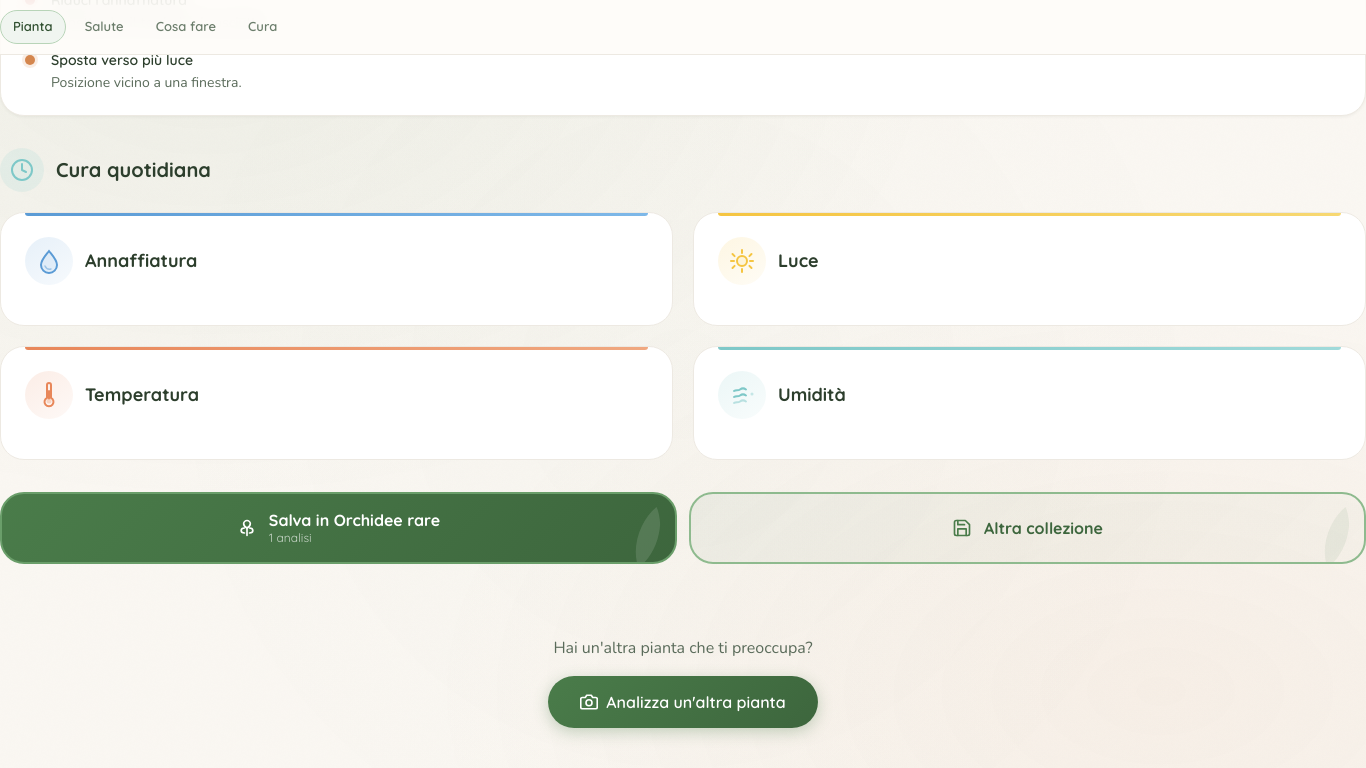
Scenario: Flusso completo: selettore collezione con ricerca e salvataggio › il badge 'Suggerita' resta visibile su Orchidee rare anche filtrando per nome scientifico
(page scrolled)
Click the button "Altra collezione": (1028,528) [689,492,1365,564]
(page scrolled)
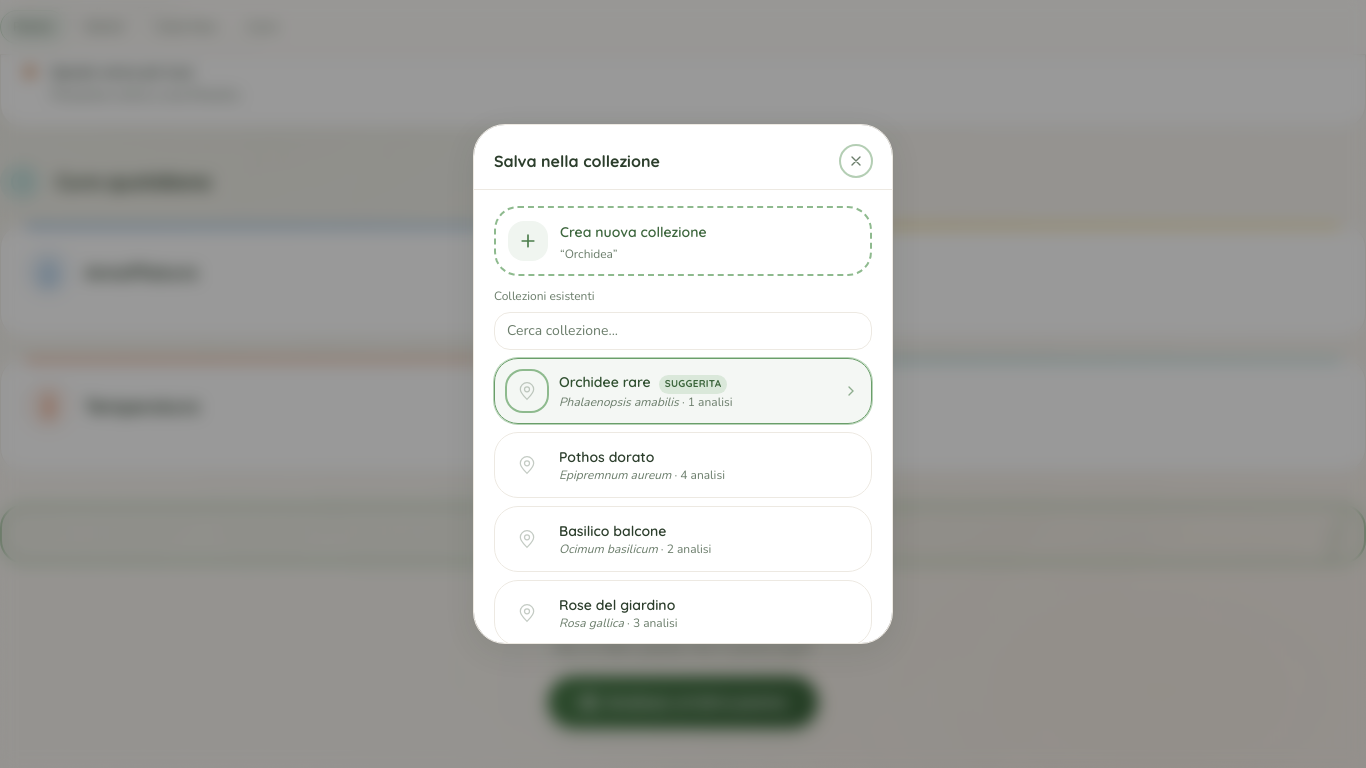
expect the text "Collezioni esistenti" is shown: met, box [494,288,594,304]
In the field with placeholder "Cerca collezione...": (683,331) [494,312,872,350], type "phalaenopsis"
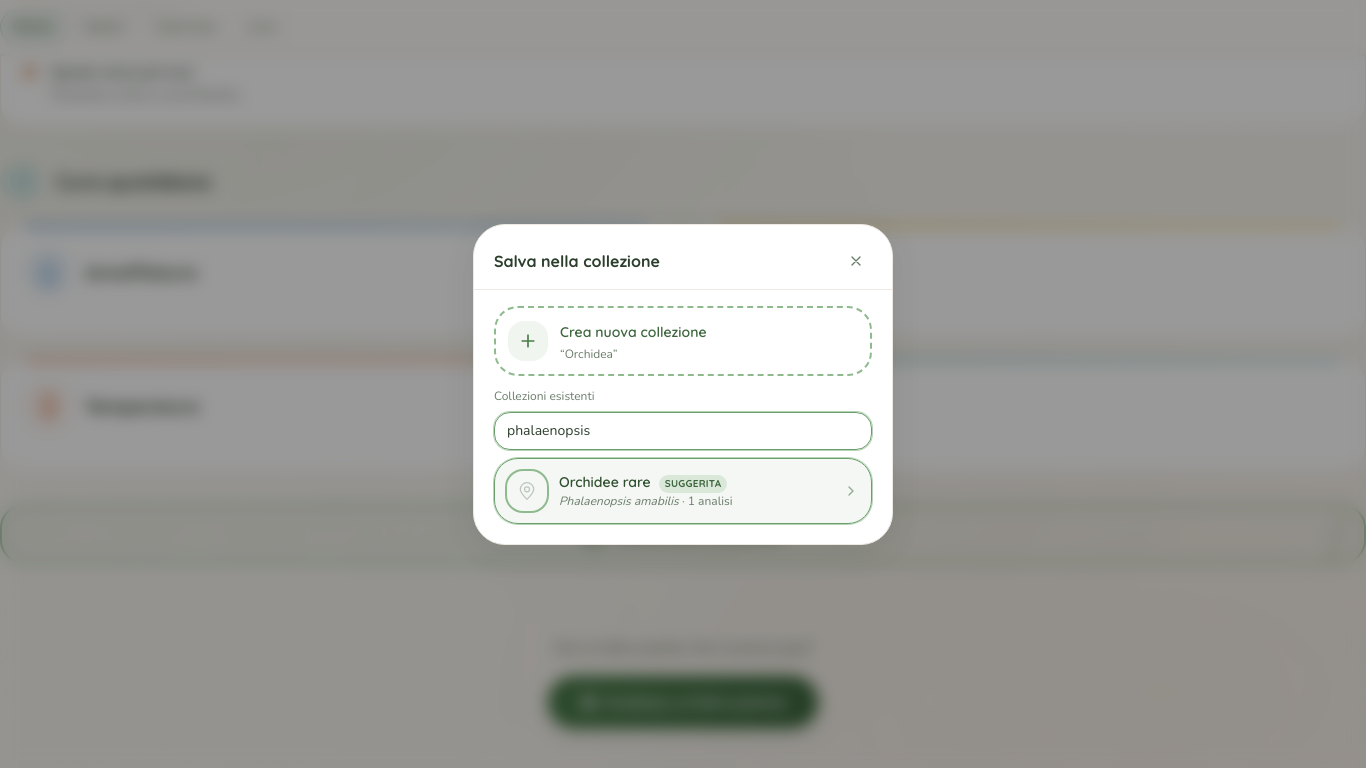
expect the text "Orchidee rare" is shown: met, box [559,473,651,491]
expect the text "Suggerita" is shown: met, box [659,475,728,493]
expect the button "Rose del giardino" is gone: met
